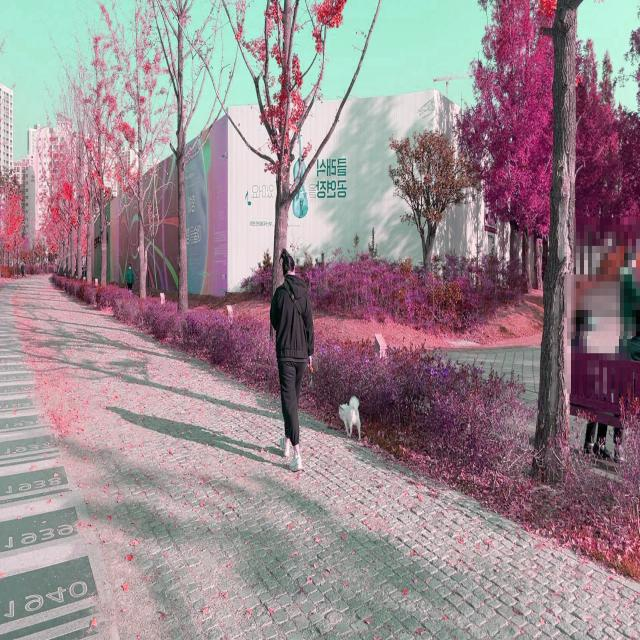Leashed_Dog: (297, 363, 362, 442)
